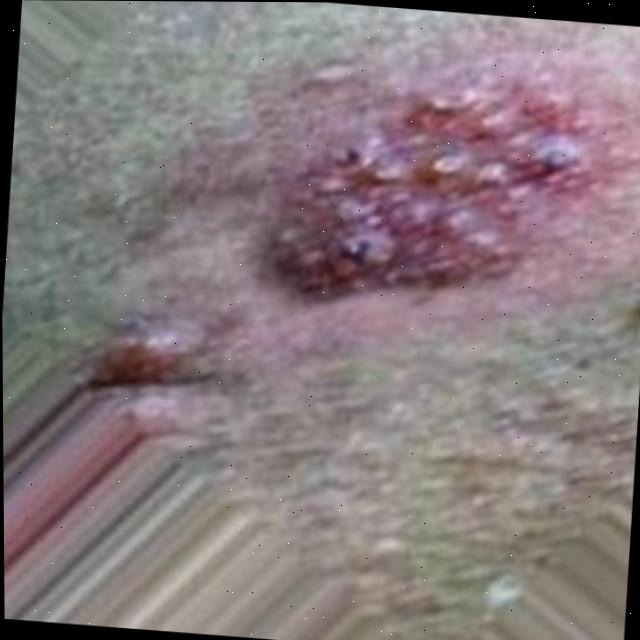Shingles: (271, 64, 585, 329)
